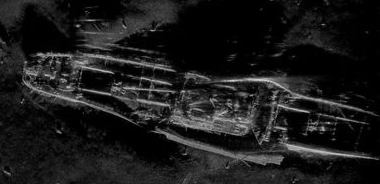ship: (16, 40, 380, 169)
